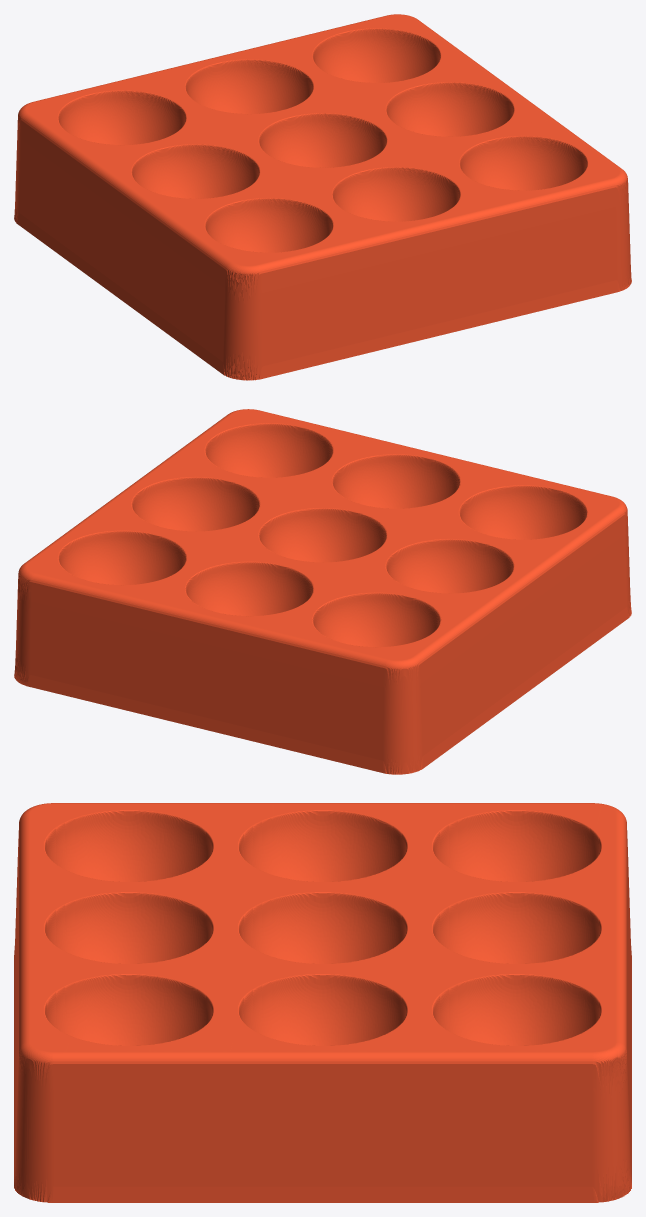
Rendered from mold.glb.
The picture shows the model from 3 angles, top to bottom: view 1: azimuth 30°, elevation 25°; view 2: azimuth 150°, elevation 25°; view 3: azimuth 270°, elevation 25°; orthographic projection. The views are drawn at different scales.
Parts seen in each view (by area): view 1: geometry_0; view 2: geometry_0; view 3: geometry_0.
Part boxes in pixels (bbox=[...]): geometry_0: bbox=[14, 14, 631, 380]; geometry_0: bbox=[14, 409, 631, 774]; geometry_0: bbox=[14, 803, 631, 1202].
Bounding box in the file's own units: 0.1409 × 0.0363 × 0.1409.
